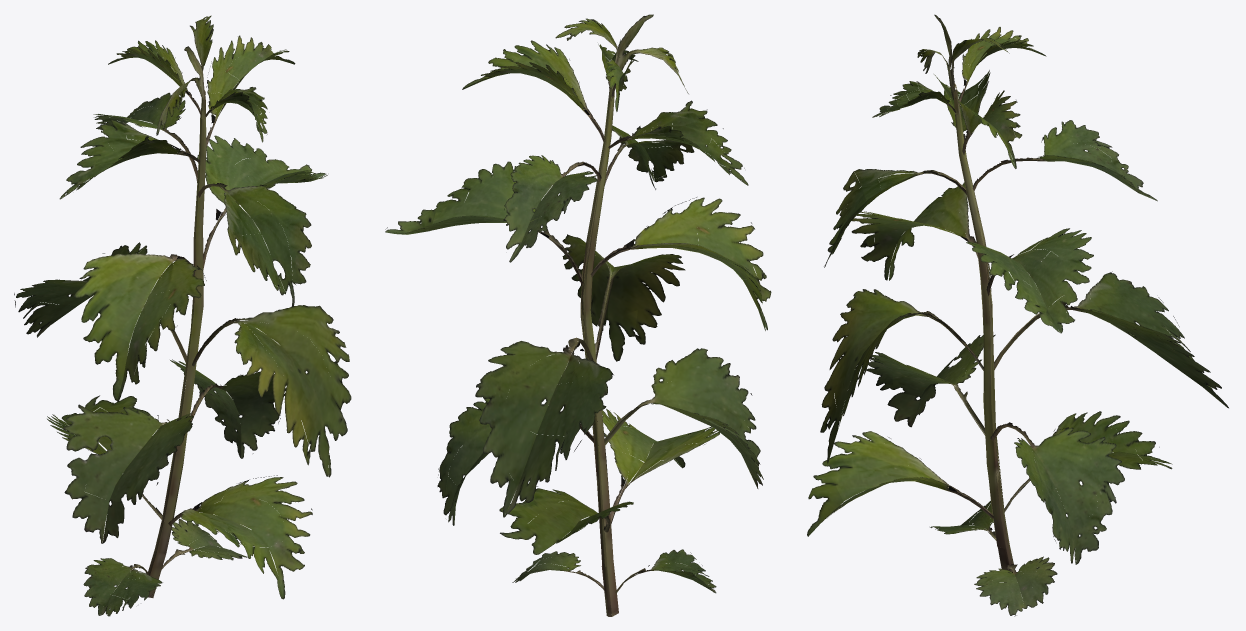
File: nettle_small.glb
3 views of the same model, side by side, from view 1: azimuth 30°, elevation 25°; view 2: azimuth 150°, elevation 25°; view 3: azimuth 270°, elevation 25° (orthographic).
Parts seen in each view (by area): view 1: nettle_plant_medium_a_LOD0; view 2: nettle_plant_medium_a_LOD0; view 3: nettle_plant_medium_a_LOD0.
Part boxes in pixels (x1,y1,x2,y2): nettle_plant_medium_a_LOD0: [14, 15, 351, 616]; nettle_plant_medium_a_LOD0: [385, 14, 771, 616]; nettle_plant_medium_a_LOD0: [807, 14, 1228, 616].
Size of the model in its own units: 0.0773 by 0.1315 by 0.0892.
1 material, 1 textured.
